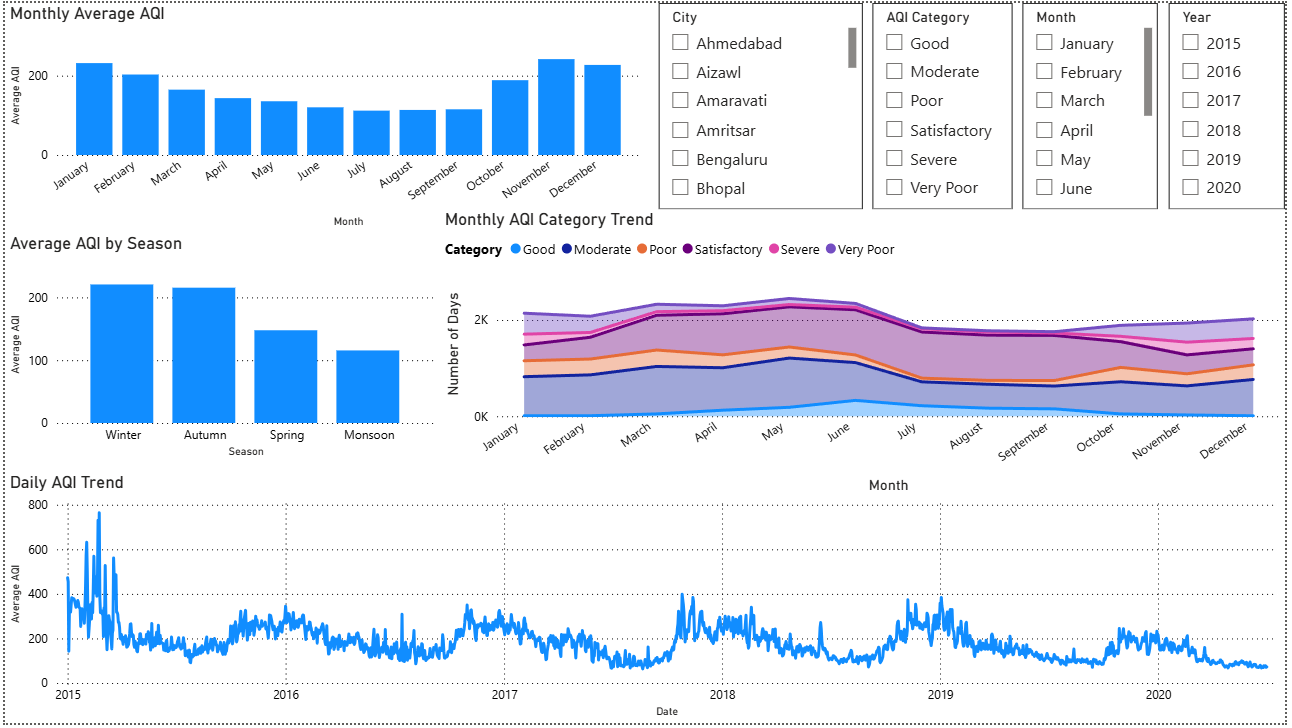

The page's visual inventory and layout, read from the dashboard file:
{"tool":"powerbi","page":{"name":"Page 2","canvas":[1280,720],"ordinal":1},"visuals":[{"type":"slicer","fields":{"Values":["city_day.City"]},"box":[653.8,0,203.8,206.2],"z":0},{"type":"slicer","fields":{"Values":["city_day.AQI_Bucket"]},"box":[867.5,0,140,206.2],"z":1000},{"type":"slicer","fields":{"Values":["city_day.Date.Variation.Date Hierarchy.Year"]},"box":[1163.8,0,116.2,206.2],"z":2000},{"type":"slicer","fields":{"Values":["city_day.Date.Variation.Date Hierarchy.Month"]},"box":[1017.5,0,135,206.2],"z":3000},{"type":"lineChart","title":"Daily AQI Trend","fields":{"Y":["Avg(city_day.AQI)"],"Category":["city_day.Date"]},"box":[0,468.8,1280,251.2],"z":4000},{"type":"columnChart","title":"Monthly Average AQI","fields":{"Y":["Avg(city_day.AQI)"],"Category":["city_day.MonthName"]},"box":[0,0,640,230],"z":5000},{"type":"columnChart","fields":{"Category":["city_day.Season"],"Y":["Avg(city_day.AQI)"]},"box":[0,230,435,230],"z":6000},{"type":"stackedAreaChart","title":"Monthly AQI Category Trend","fields":{"Y":["CountNonNull(city_day.AQI)"],"Series":["city_day.AQI_Bucket"],"Category":["city_day.MonthName"]},"box":[435,206.2,845,288.8],"z":7000}]}

Visuals, with their boxes in screenshot pixels (x1, y1, x2, y2), scaled from the page's 1280x720 canvas onto the 1292x728 screenshot:
slicer - city_day.City: {"x1": 660, "y1": 0, "x2": 866, "y2": 208}
slicer - city_day.AQI_Bucket: {"x1": 876, "y1": 0, "x2": 1017, "y2": 208}
slicer - city_day.Date.Variation.Date Hierarchy.Year: {"x1": 1175, "y1": 0, "x2": 1291, "y2": 208}
slicer - city_day.Date.Variation.Date Hierarchy.Month: {"x1": 1027, "y1": 0, "x2": 1163, "y2": 208}
"Daily AQI Trend" lineChart: {"x1": 0, "y1": 474, "x2": 1291, "y2": 727}
"Monthly Average AQI" columnChart: {"x1": 0, "y1": 0, "x2": 646, "y2": 233}
columnChart - city_day.Season x Avg(city_day.AQI): {"x1": 0, "y1": 233, "x2": 439, "y2": 465}
"Monthly AQI Category Trend" stackedAreaChart: {"x1": 439, "y1": 208, "x2": 1291, "y2": 500}
